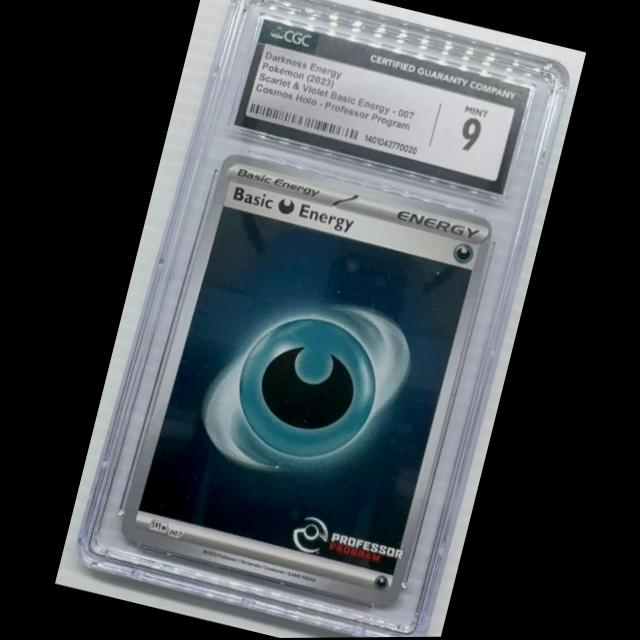card: (68, 0, 574, 638), (115, 150, 495, 612)
cgc_label: (232, 16, 530, 197)
